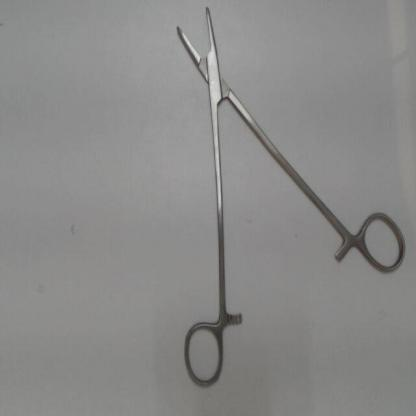8 Mayo Needle Holder: (164, 2, 413, 393)
